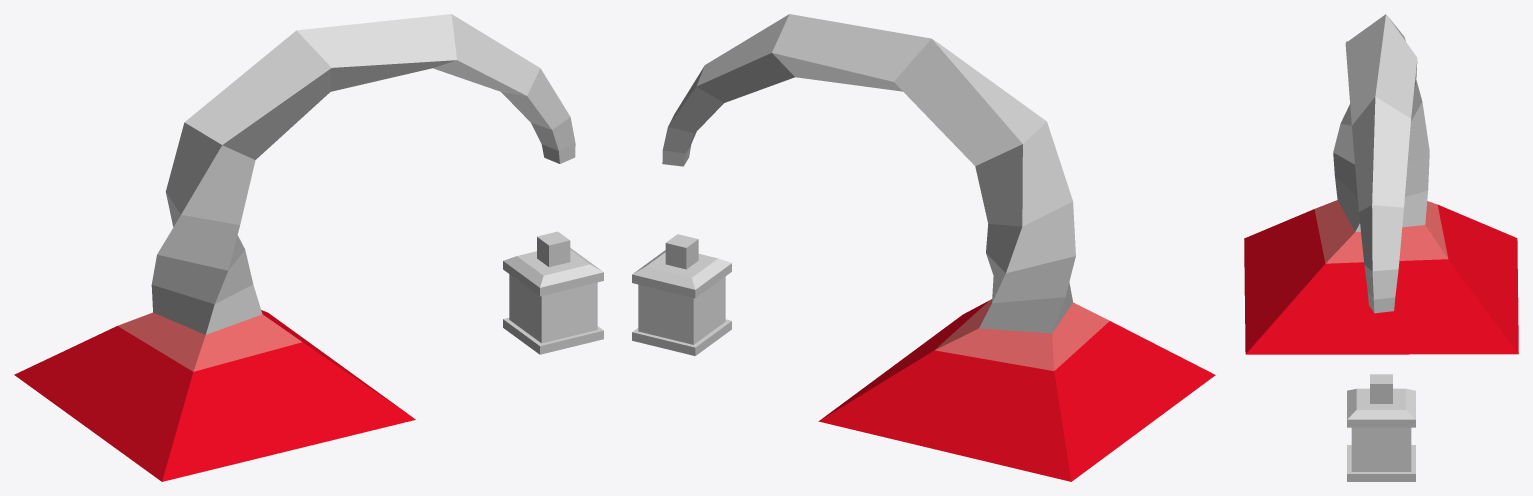
The model's file is NaniteSupportGrowth&Fruit.fbx.
3 renders of one model, left to right at view 1: azimuth 30°, elevation 25°; view 2: azimuth 150°, elevation 25°; view 3: azimuth 270°, elevation 25°, orthographic. The views are drawn at different scales.
Visible parts, largest first — view 1: Plane, Cube; view 2: Plane, Cube; view 3: Plane, Cube.
Part boxes in pixels (x1,y1,x2,y2): Plane: (14,14,575,481); Cube: (503,231,603,354); Plane: (662,14,1215,481); Cube: (632,234,731,355); Plane: (1244,14,1518,354); Cube: (1347,374,1415,481).
Bounding box in the file's own units: 800 × 1558 × 1086.
